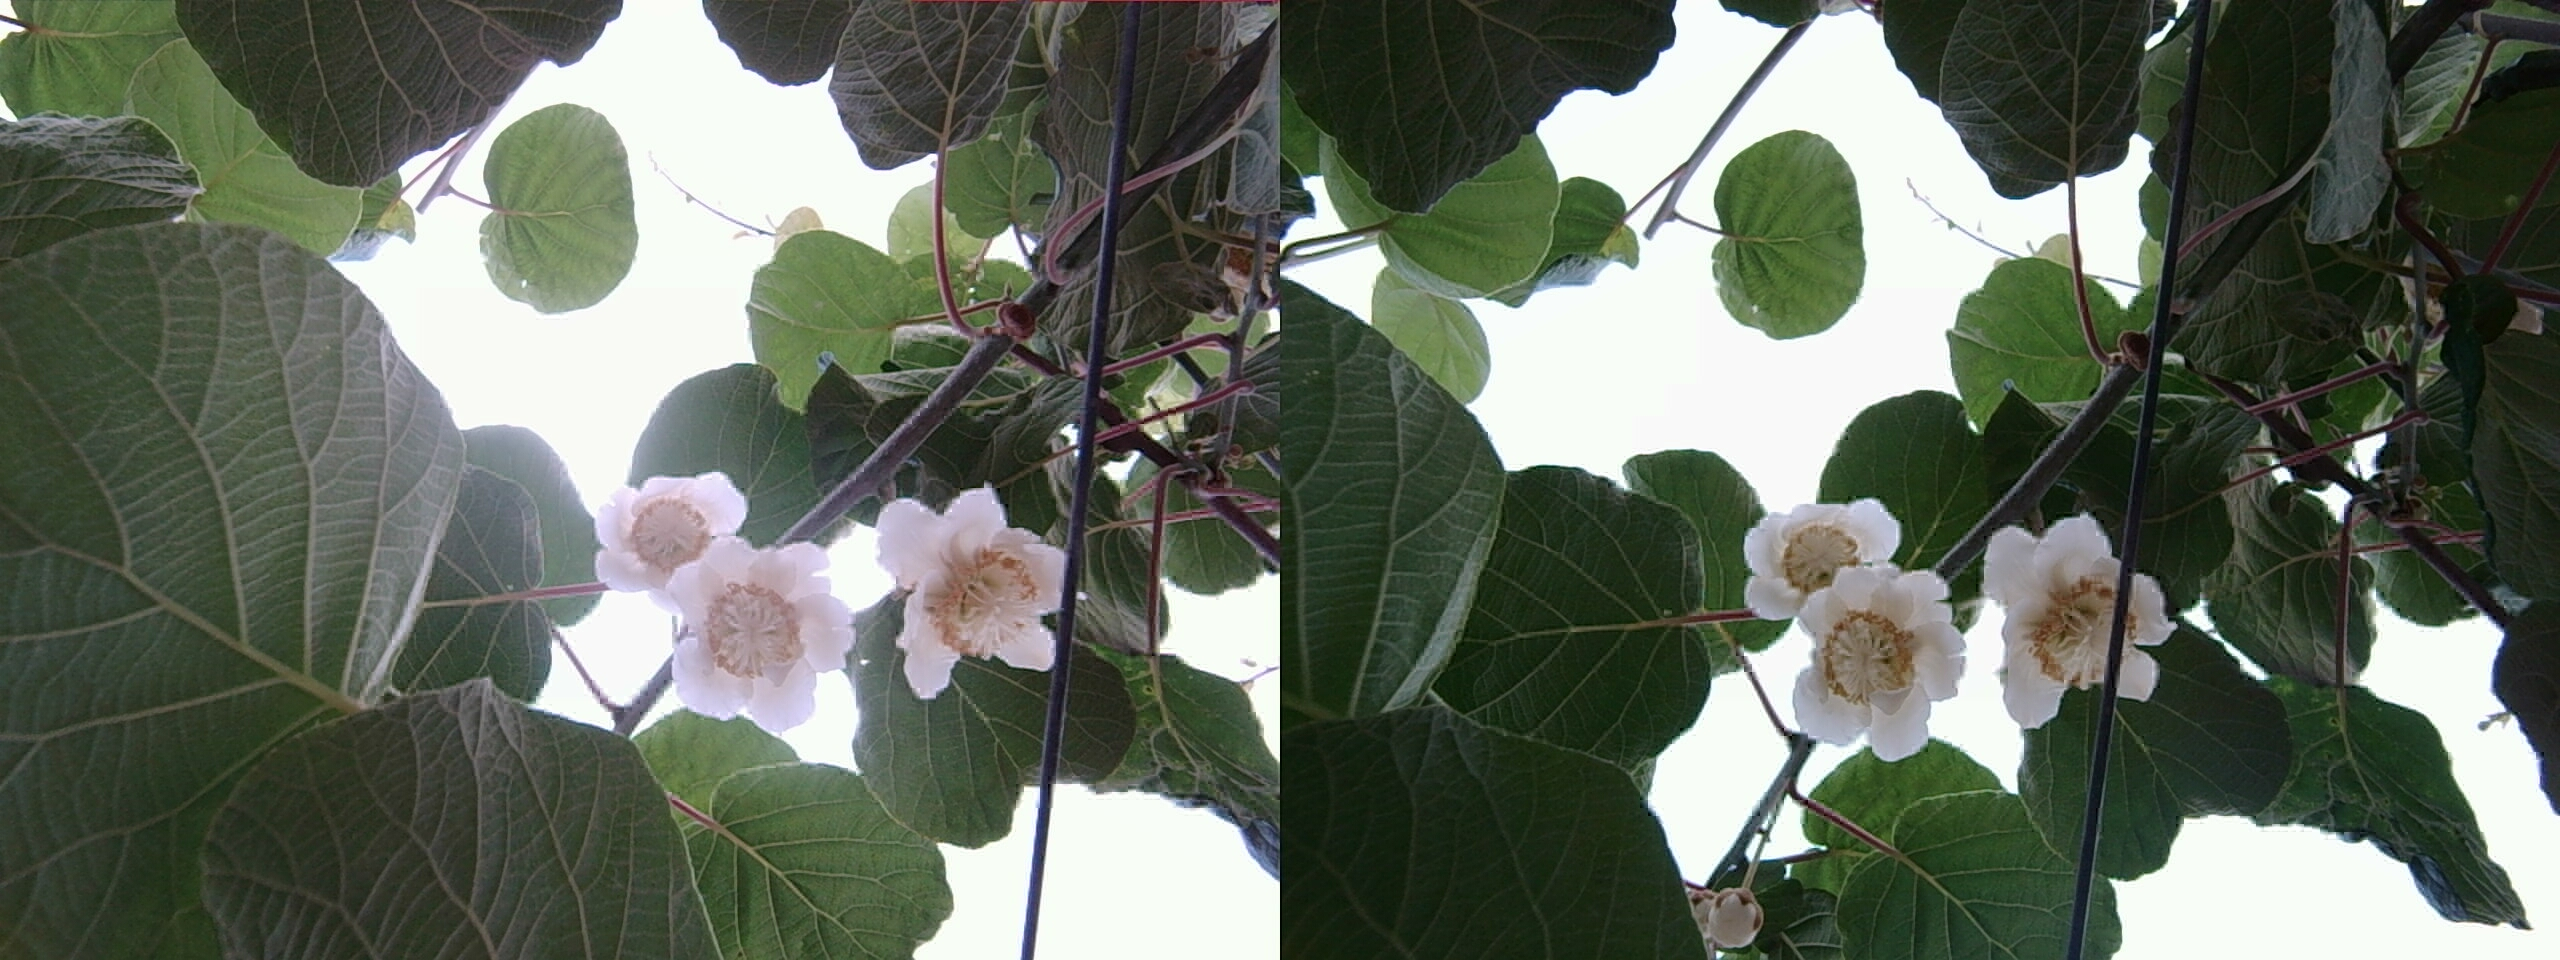flower: (638, 522, 856, 730), (1770, 557, 1971, 754), (869, 485, 1064, 686), (1980, 511, 2160, 722), (588, 465, 748, 588), (1740, 495, 1891, 616)
